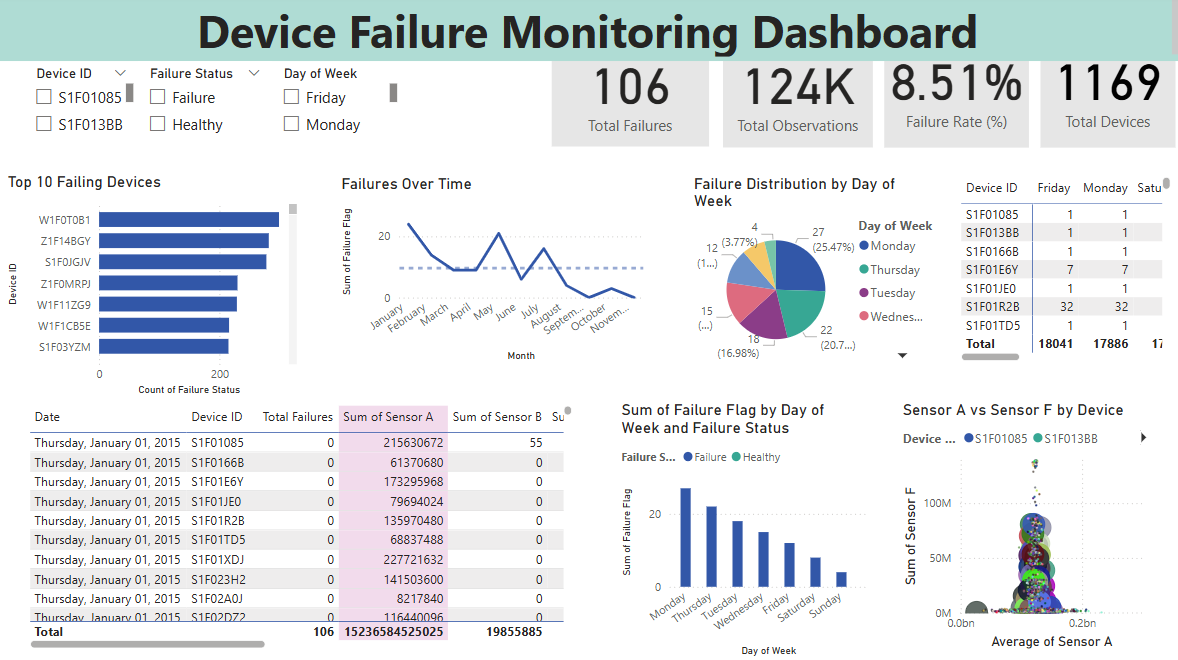

The page's visual inventory and layout, read from the dashboard file:
{"tool":"powerbi","page":{"name":"Page 1","canvas":[1280,720],"ordinal":0},"visuals":[{"type":"card","fields":{"Values":["predictive_maintenance_cleaned.Total Failures"]},"box":[597,41.8,169.8,121.3],"z":0},{"type":"card","fields":{"Values":["predictive_maintenance_cleaned.Total Observations"]},"box":[781.6,40.4,161.7,124],"z":1000},{"type":"card","fields":{"Values":["predictive_maintenance_cleaned.Failure Rate (%)"]},"box":[955.5,31,156.3,133.4],"z":2000},{"type":"card","fields":{"Values":["predictive_maintenance_cleaned.Total Devices"]},"box":[1123.9,31,145.5,133.4],"z":3000},{"type":"clusteredBarChart","title":"Top 10 Failing Devices","fields":{"Category":["predictive_maintenance_cleaned.Device ID"],"Y":["CountNonNull(predictive_maintenance_cleaned.Failure Status)"]},"box":[5.7,191.4,321.4,245.7],"z":4000},{"type":"lineChart","title":"Failures Over Time","fields":{"Y":["Sum(predictive_maintenance_cleaned.Failure Flag)"],"Category":["predictive_maintenance_cleaned.Date.Variation.Date Hierarchy.Month"]},"box":[365.2,192.7,335.6,207.5],"z":5000},{"type":"tableEx","fields":{"Values":["predictive_maintenance_cleaned.Date","predictive_maintenance_cleaned.Device ID","predictive_maintenance_cleaned.Total Failures","Sum(predictive_maintenance_cleaned.Sensor A)","Sum(predictive_maintenance_cleaned.Sensor B)","Sum(predictive_maintenance_cleaned.Sensor C)","Sum(predictive_maintenance_cleaned.Sensor D)","Sum(predictive_maintenance_cleaned.Sensor E)","Sum(predictive_maintenance_cleaned.Sensor F)","Sum(predictive_maintenance_cleaned.Sensor G)","Sum(predictive_maintenance_cleaned.Sensor H)","Sum(predictive_maintenance_cleaned.Sensor I)"]},"box":[28.6,438.6,595.7,271.4],"z":6000},{"type":"slicer","fields":{"Values":["predictive_maintenance_cleaned.Day of Week"]},"box":[295.1,71.4,140.2,86.3],"z":7000},{"type":"slicer","fields":{"Values":["predictive_maintenance_cleaned.Device ID"]},"box":[28.3,71.4,122.6,84.9],"z":8000},{"type":"textbox","box":[0,0,1278.9,71.4],"z":9000},{"type":"scatterChart","title":"Sensor A vs Sensor F by Device","fields":{"X":["Avg(predictive_maintenance_cleaned.Sensor A)"],"Series":["predictive_maintenance_cleaned.Device ID"],"Y":["Sum(predictive_maintenance_cleaned.Sensor F)"],"Size":["predictive_maintenance_cleaned.Total Failures"]},"box":[970,437.1,284.3,272.9],"z":10000},{"type":"slicer","fields":{"Values":["predictive_maintenance_cleaned.Failure Status"]},"box":[150.9,71.4,144.2,93],"z":11000},{"type":"pieChart","title":"Failure Distribution by Day of Week","fields":{"Category":["predictive_maintenance_cleaned.Day of Week"],"Y":["Sum(predictive_maintenance_cleaned.Failure Flag)"]},"box":[745.3,192.7,280.3,208.9],"z":12000},{"type":"pivotTable","fields":{"Rows":["predictive_maintenance_cleaned.Device ID"],"Columns":["predictive_maintenance_cleaned.Day of Week"],"Values":["CountNonNull(predictive_maintenance_cleaned.Failure Status)"]},"box":[1034.3,191.4,235.7,208.6],"z":13000},{"type":"clusteredColumnChart","fields":{"Category":["predictive_maintenance_cleaned.Day of Week"],"Y":["Sum(predictive_maintenance_cleaned.Failure Flag)"],"Series":["predictive_maintenance_cleaned.Failure Status"]},"box":[667.1,437.1,275.7,281.4],"z":13001}]}

Visuals, with their boxes in screenshot pixels (x1, y1, x2, y2), scaled from the page's 1280x720 canvas onto the 1178x660 screenshot:
card - predictive_maintenance_cleaned.Total Failures: crop(549, 38, 706, 150)
card - predictive_maintenance_cleaned.Total Observations: crop(719, 37, 868, 151)
card - predictive_maintenance_cleaned.Failure Rate (%): crop(879, 28, 1023, 151)
card - predictive_maintenance_cleaned.Total Devices: crop(1034, 28, 1168, 151)
"Top 10 Failing Devices" clusteredBarChart: crop(5, 175, 301, 401)
"Failures Over Time" lineChart: crop(336, 177, 645, 367)
tableEx - predictive_maintenance_cleaned.Date x predictive_maintenance_cleaned.Device ID: crop(26, 402, 575, 651)
slicer - predictive_maintenance_cleaned.Day of Week: crop(272, 65, 401, 145)
slicer - predictive_maintenance_cleaned.Device ID: crop(26, 65, 139, 143)
textbox: crop(0, 0, 1177, 65)
"Sensor A vs Sensor F by Device" scatterChart: crop(893, 401, 1154, 651)
slicer - predictive_maintenance_cleaned.Failure Status: crop(139, 65, 272, 151)
"Failure Distribution by Day of Week" pieChart: crop(686, 177, 944, 368)
pivotTable - predictive_maintenance_cleaned.Device ID x predictive_maintenance_cleaned.Day of Week: crop(952, 175, 1169, 367)
clusteredColumnChart - predictive_maintenance_cleaned.Day of Week x Sum(predictive_maintenance_cleaned.Failure Flag): crop(614, 401, 868, 659)
